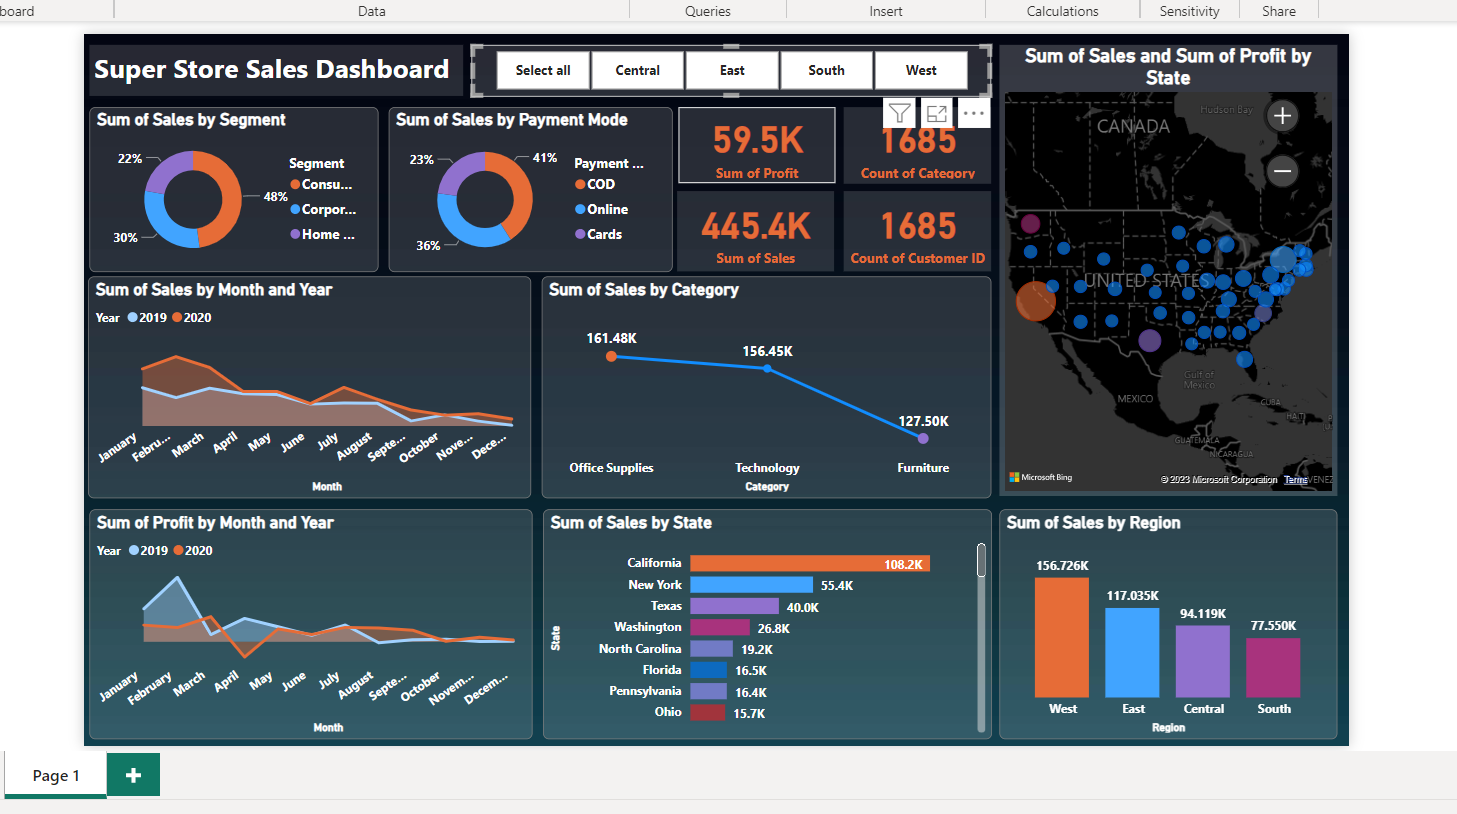

The page's visual inventory and layout, read from the dashboard file:
{"tool":"powerbi","page":{"name":"Page 1","canvas":[1280,720],"ordinal":0},"visuals":[{"type":"lineChart","fields":{"Category":["SuperStore_Sales_Dataset.Category"],"Y":["Sum(SuperStore_Sales_Dataset.Sales)"]},"box":[463.2,245.6,455.2,224.2],"z":0},{"type":"map","title":"Sum of Sales and Sum of Profit by State","fields":{"Category":["SuperStore_Sales_Dataset.State"],"Size":["Sum(SuperStore_Sales_Dataset.Sales)"]},"box":[926.4,10.7,341.7,456.5],"z":1000},{"type":"areaChart","fields":{"Y":["Sum(SuperStore_Sales_Dataset.Profit)"],"Series":["SuperStore_Sales_Dataset.Order Date.Variation.Date Hierarchy.Year"],"Category":["SuperStore_Sales_Dataset.Order Date.Variation.Date Hierarchy.Month"]},"box":[5.3,481.1,448.5,232.3],"z":2000},{"type":"clusteredBarChart","fields":{"Y":["Sum(SuperStore_Sales_Dataset.Sales)"],"Category":["SuperStore_Sales_Dataset.State"]},"box":[464.5,480.5,453.8,232.3],"z":3000},{"type":"columnChart","fields":{"Category":["SuperStore_Sales_Dataset.Region"],"Y":["Sum(SuperStore_Sales_Dataset.Sales)"]},"box":[926.4,481.1,341.7,232.3],"z":4000},{"type":"areaChart","fields":{"Y":["Sum(SuperStore_Sales_Dataset.Sales)"],"Category":["SuperStore_Sales_Dataset.Order Date.Variation.Date Hierarchy.Month"],"Series":["SuperStore_Sales_Dataset.Order Date.Variation.Date Hierarchy.Year"]},"box":[4,245.6,448.5,224.2],"z":5000},{"type":"donutChart","fields":{"Category":["SuperStore_Sales_Dataset.Segment"],"Y":["Sum(SuperStore_Sales_Dataset.Sales)"]},"box":[5.3,73.4,292.3,166.9],"z":6000},{"type":"donutChart","fields":{"Category":["SuperStore_Sales_Dataset.Payment Mode"],"Y":["Sum(SuperStore_Sales_Dataset.Sales)"]},"box":[308.3,73.4,287,166.9],"z":7000},{"type":"card","fields":{"Values":["CountNonNull(SuperStore_Sales_Dataset.Customer ID)"]},"box":[768.8,158.8,149.5,81.4],"z":8000},{"type":"card","fields":{"Values":["Sum(SuperStore_Sales_Dataset.Sales)"]},"box":[600.7,158.8,158.8,81.4],"z":9000},{"type":"card","fields":{"Values":["Sum(SuperStore_Sales_Dataset.Profit)"]},"box":[602,73.4,158.8,77.4],"z":10000},{"type":"card","fields":{"Values":["CountNonNull(SuperStore_Sales_Dataset.Category)"]},"box":[768.8,73.4,149.5,77.4],"z":11000},{"type":"textbox","box":[5.3,10.7,377.7,52.1],"z":12000},{"type":"slicer","fields":{"Values":["SuperStore_Sales_Dataset.Region"]},"box":[392.4,10.7,525.9,52.1],"z":13000}]}

Visuals, with their boxes on the page's 1280x720 design canvas (x1, y1, x2, y2). These are canvas units, not pixel positions in the 1457x814 screenshot, which may show the page scaled, cropped or inside an application window:
lineChart - SuperStore_Sales_Dataset.Category x Sum(SuperStore_Sales_Dataset.Sales): locate(463, 246, 918, 470)
"Sum of Sales and Sum of Profit by State" map: locate(926, 11, 1268, 467)
areaChart - Sum(SuperStore_Sales_Dataset.Profit) x SuperStore_Sales_Dataset.Order Date.Variation.Date Hierarchy.Year: locate(5, 481, 454, 713)
clusteredBarChart - Sum(SuperStore_Sales_Dataset.Sales) x SuperStore_Sales_Dataset.State: locate(464, 480, 918, 713)
columnChart - SuperStore_Sales_Dataset.Region x Sum(SuperStore_Sales_Dataset.Sales): locate(926, 481, 1268, 713)
areaChart - Sum(SuperStore_Sales_Dataset.Sales) x SuperStore_Sales_Dataset.Order Date.Variation.Date Hierarchy.Month: locate(4, 246, 452, 470)
donutChart - SuperStore_Sales_Dataset.Segment x Sum(SuperStore_Sales_Dataset.Sales): locate(5, 73, 298, 240)
donutChart - SuperStore_Sales_Dataset.Payment Mode x Sum(SuperStore_Sales_Dataset.Sales): locate(308, 73, 595, 240)
card - CountNonNull(SuperStore_Sales_Dataset.Customer ID): locate(769, 159, 918, 240)
card - Sum(SuperStore_Sales_Dataset.Sales): locate(601, 159, 760, 240)
card - Sum(SuperStore_Sales_Dataset.Profit): locate(602, 73, 761, 151)
card - CountNonNull(SuperStore_Sales_Dataset.Category): locate(769, 73, 918, 151)
textbox: locate(5, 11, 383, 63)
slicer - SuperStore_Sales_Dataset.Region: locate(392, 11, 918, 63)
